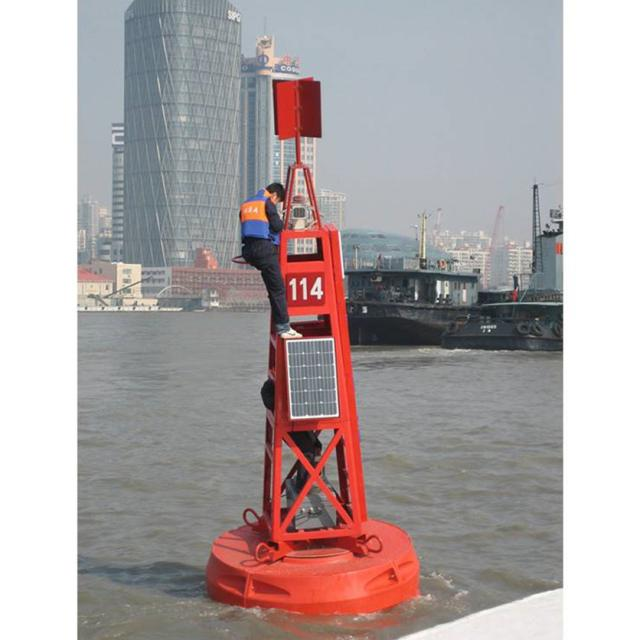buoy: (201, 72, 427, 618)
